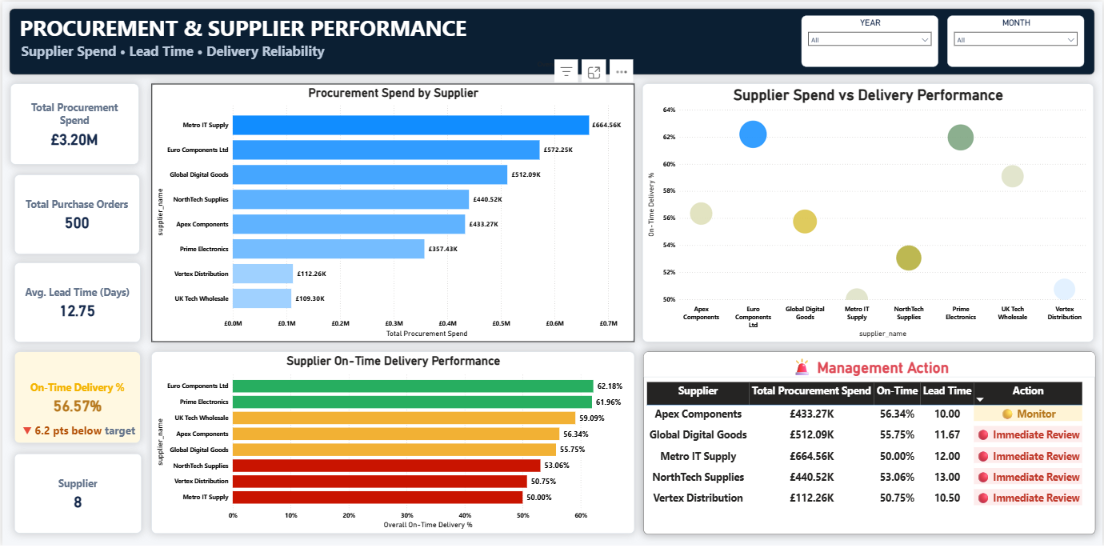

The page's visual inventory and layout, read from the dashboard file:
{"tool":"powerbi","page":{"name":"Procurement & Supplier Performance.","canvas":[2200,1090],"ordinal":1},"visuals":[{"type":"textbox","box":[14,14,2170,132],"z":0},{"type":"slicer","title":"YEAR","fields":{"Values":["core orders.order_date.Variation.Date Hierarchy.Year","core orders.order_date.Variation.Date Hierarchy.Quarter","core orders.order_date.Variation.Date Hierarchy.Month","core orders.order_date.Variation.Date Hierarchy.Day"]},"box":[1597.6,28.6,273.8,102.4],"z":2000},{"type":"cardVisual","fields":{"Data":["core purchases.Total Purchase Orders"]},"box":[23.8,345.2,250,159.5],"z":4000},{"type":"cardVisual","fields":{"Data":["core inventory.Average Lead Time"]},"box":[23.8,521.4,252.4,159.5],"z":5000},{"type":"cardVisual","fields":{"Data":["Count(core suppliers.supplier_id)"]},"box":[23.8,904.8,254.8,159.5],"z":8000},{"type":"cardVisual","fields":{"Data":["core purchases.Total Procurement Spend"]},"box":[16.7,164.3,257.1,161.9],"z":9000},{"type":"cardVisual","fields":{"Data":["core shipments.On-Time Delivery %"]},"box":[23.8,700,252.4,183.3],"z":10000},{"type":"clusteredBarChart","title":"Procurement Spend by Supplier","fields":{"Category":["core suppliers.supplier_name"],"Y":["core purchases.Total Procurement Spend"]},"box":[297.6,164.3,966.7,516.7],"z":11000},{"type":"clusteredBarChart","title":"Supplier On-Time Delivery Performance","fields":{"Category":["core suppliers.supplier_name"],"Y":["core shipments.Overall On-Time Delivery %"]},"box":[297.6,700,966.7,364.3],"z":12000},{"type":"scatterChart","title":"Supplier Spend vs Delivery Performance","fields":{"Size":["core purchases.Total Purchase Orders"],"Y":["core shipments.On-Time Delivery %"],"X":["core suppliers.supplier_name"]},"box":[1281,164.3,902.4,516.7],"z":13000},{"type":"tableEx","title":"🚨 Management Action","fields":{"Values":["core suppliers.supplier_name","core purchases.Total Procurement Spend","core shipments.On-Time Delivery %","core inventory.Average Lead Time","core inventory.Supplier Risk Action"]},"box":[1281.8,700,903.6,365.5],"z":14000},{"type":"textbox","box":[19,838.1,266.7,45.2],"z":16000},{"type":"slicer","title":"MONTH","fields":{"Values":["core orders.order_date.Variation.Date Hierarchy.Month"]},"box":[1890.5,28.6,273.8,102.4],"z":18000}]}

Visuals, with their boxes in screenshot pixels (x1, y1, x2, y2), scaled from the page's 2200x1090 canvas onto the 1104x546 screenshot:
textbox: <bbox>7, 7, 1096, 73</bbox>
"YEAR" slicer: <bbox>802, 14, 939, 66</bbox>
cardVisual - core purchases.Total Purchase Orders: <bbox>12, 173, 137, 253</bbox>
cardVisual - core inventory.Average Lead Time: <bbox>12, 261, 139, 341</bbox>
cardVisual - Count(core suppliers.supplier_id): <bbox>12, 453, 140, 533</bbox>
cardVisual - core purchases.Total Procurement Spend: <bbox>8, 82, 137, 163</bbox>
cardVisual - core shipments.On-Time Delivery %: <bbox>12, 351, 139, 442</bbox>
"Procurement Spend by Supplier" clusteredBarChart: <bbox>149, 82, 634, 341</bbox>
"Supplier On-Time Delivery Performance" clusteredBarChart: <bbox>149, 351, 634, 533</bbox>
"Supplier Spend vs Delivery Performance" scatterChart: <bbox>643, 82, 1096, 341</bbox>
"🚨 Management Action" tableEx: <bbox>643, 351, 1097, 534</bbox>
textbox: <bbox>10, 420, 143, 442</bbox>
"MONTH" slicer: <bbox>949, 14, 1086, 66</bbox>
